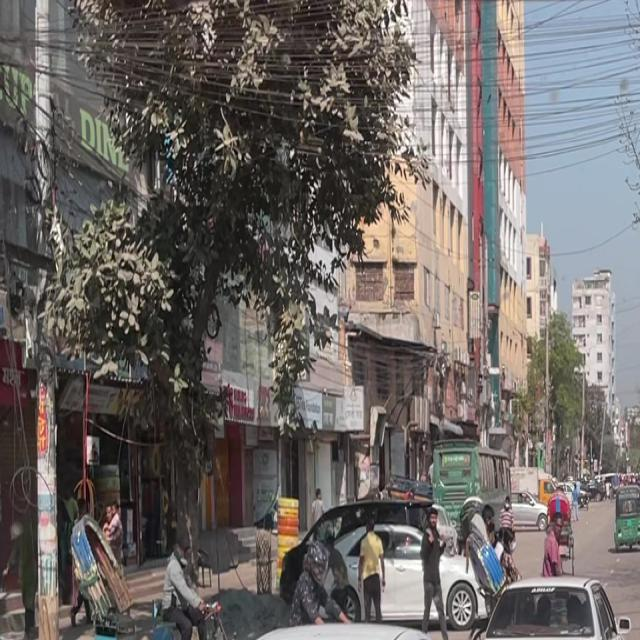car: (124, 588, 498, 640), (454, 557, 640, 640), (511, 607, 640, 640), (0, 628, 93, 640)
rickshaw: (606, 484, 640, 555)
